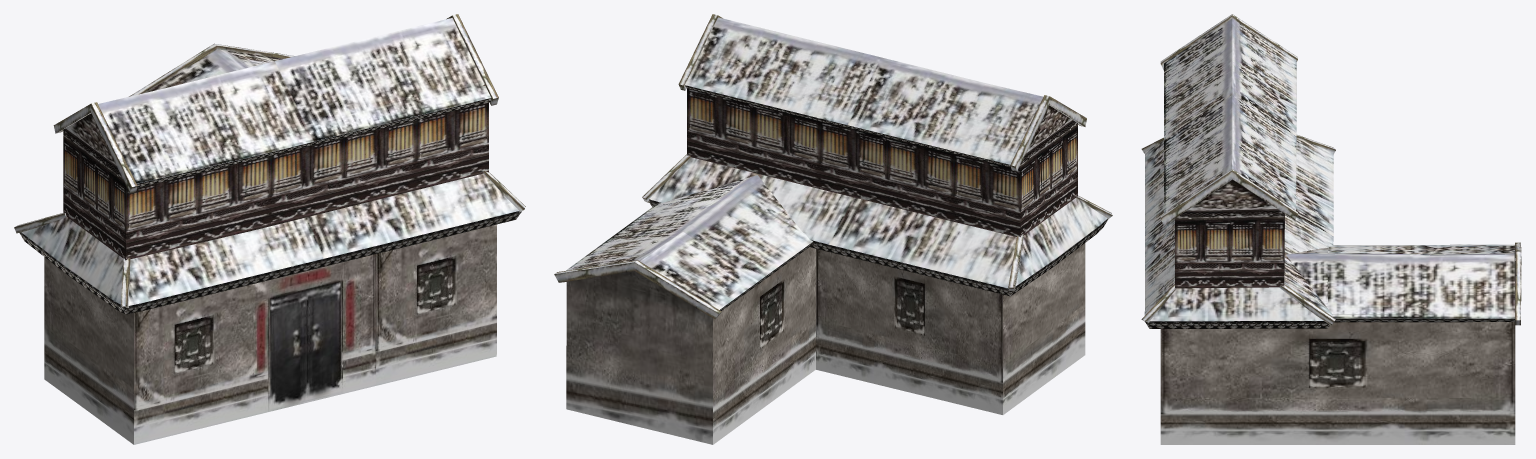
3 views of the same model, side by side, from view 1: azimuth 30°, elevation 25°; view 2: azimuth 150°, elevation 25°; view 3: azimuth 270°, elevation 25° (orthographic). The views are drawn at different scales.
Visible parts, largest first — view 1: Object09; view 2: Object09; view 3: Object09.
Part boxes in pixels (box(x1,y1,x2,y2)): Object09: box(14, 14, 525, 444); Object09: box(554, 14, 1112, 444); Object09: box(1141, 14, 1521, 444).
Bounding box in the file's own units: 210 × 154 × 194.
